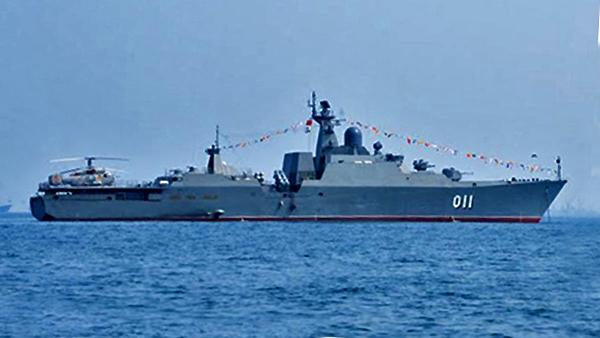MIL_Ship: (27, 97, 567, 222)
